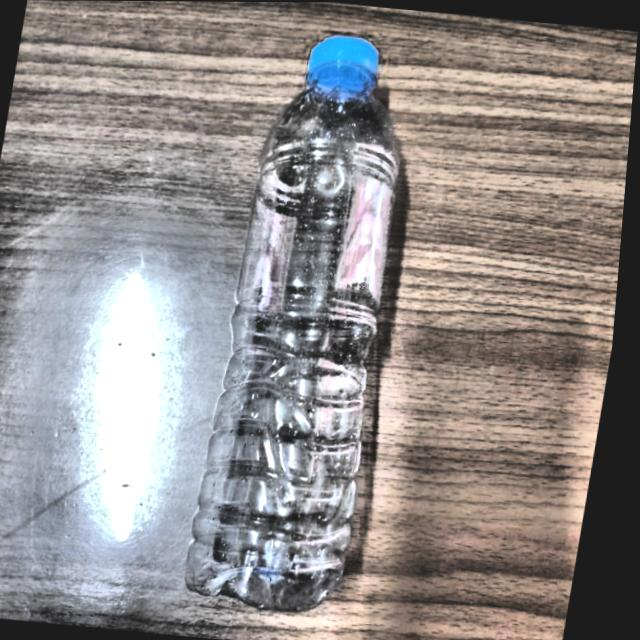Bottles: (158, 18, 461, 631)
